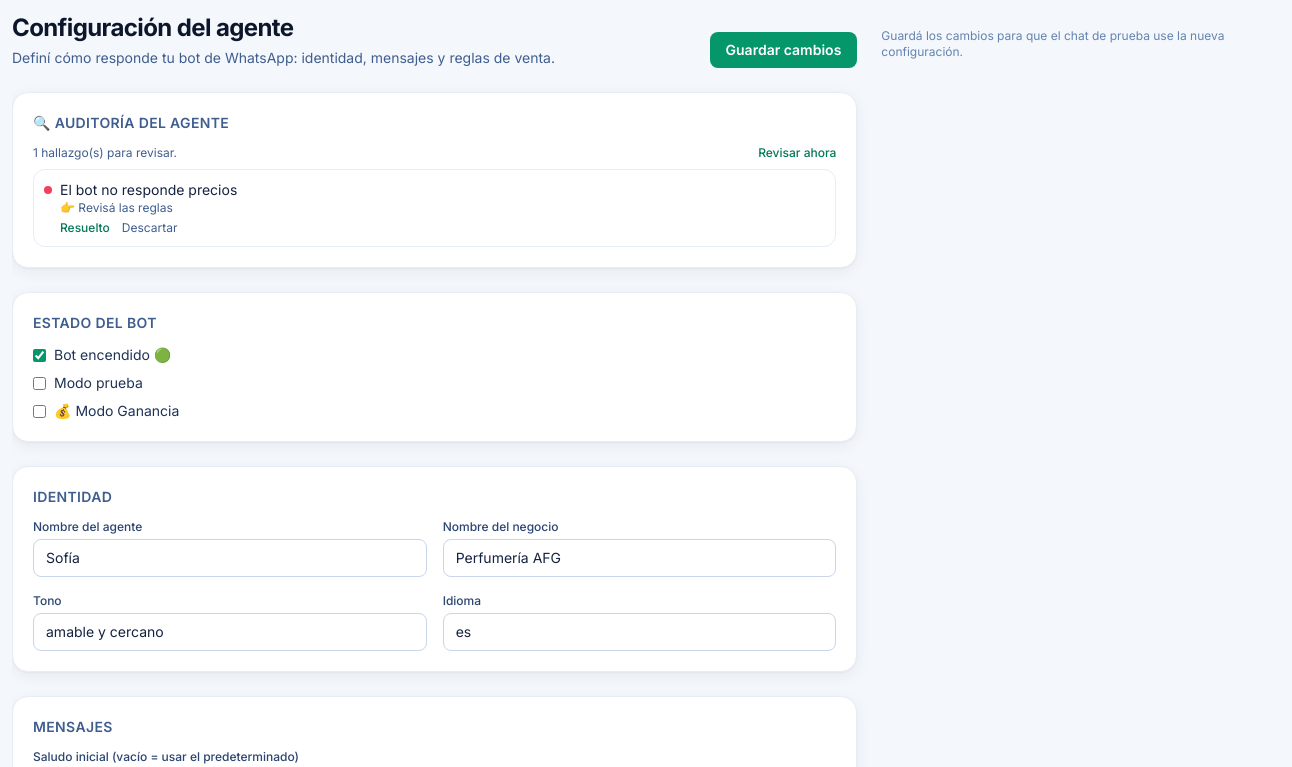
Scenario: H-03 · las acciones sobre los hallazgos de la auditoría tampoco son mudas › si «Resuelto» es rechazado, la pantalla lo dice
Click the button "Resuelto": [85, 228] box [60,220,110,236]
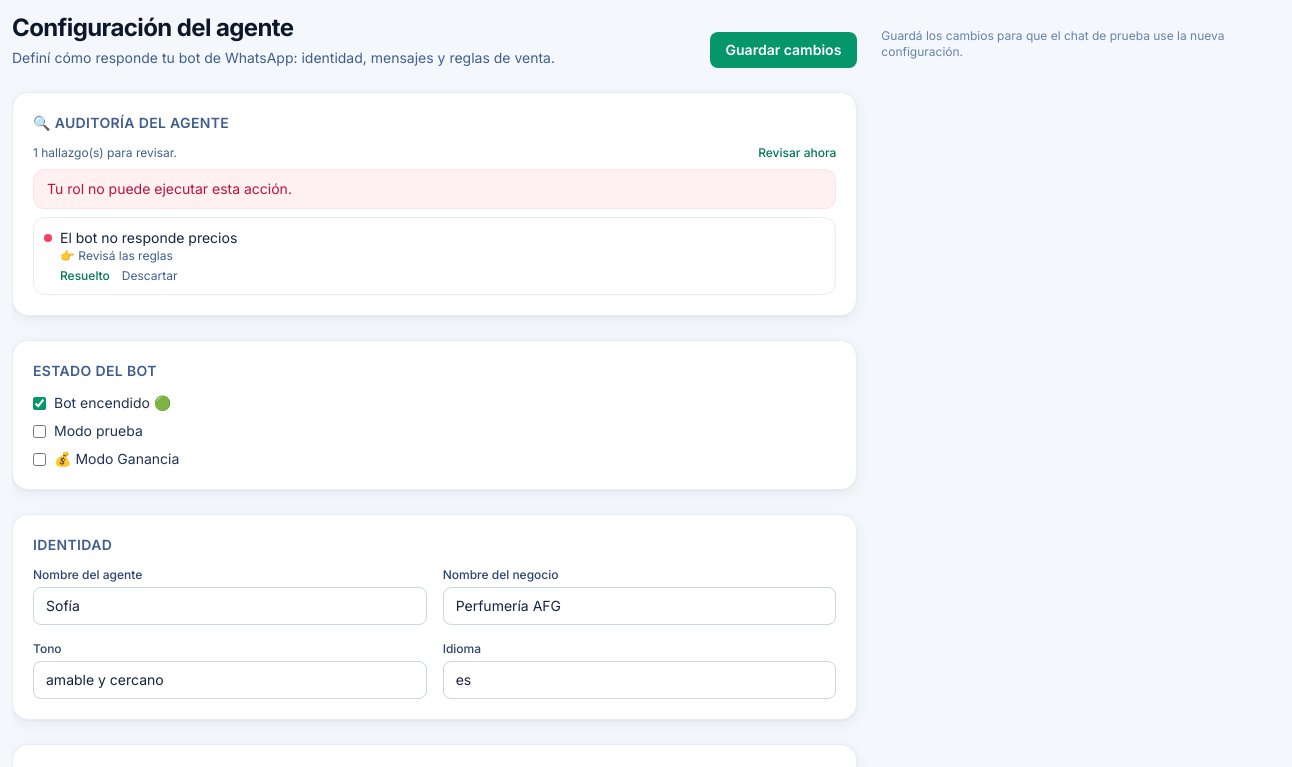
Check: the message shows "Tu rol no puede ejecutar", box [47,180,292,197]
